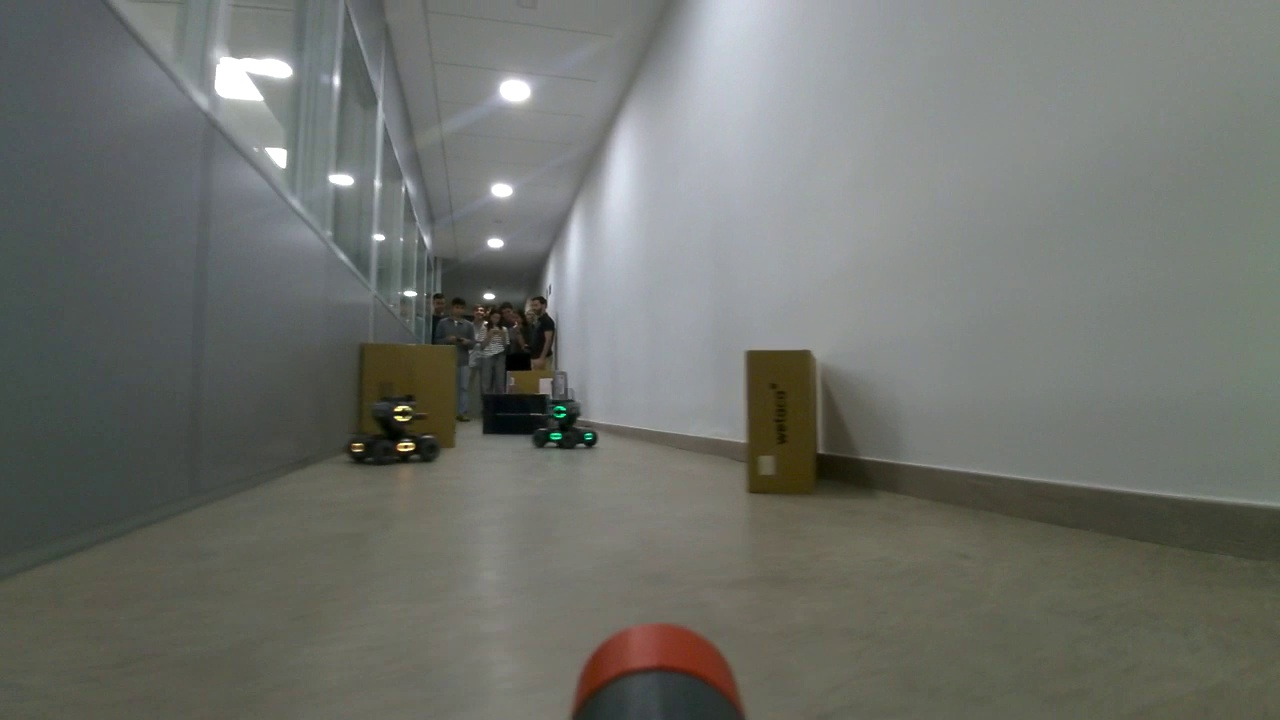robot: (342, 392, 442, 470), (531, 392, 599, 457)
